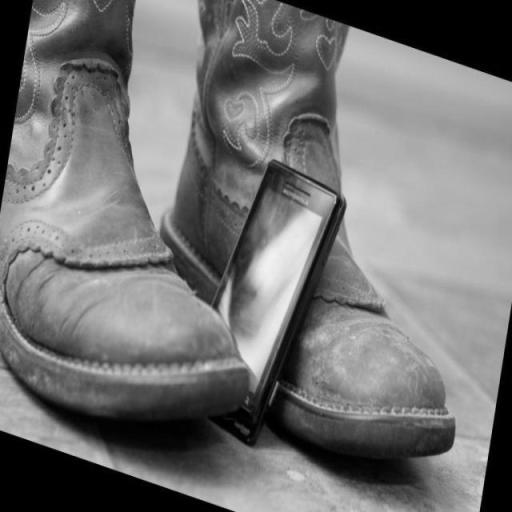phone: (212, 160, 345, 443)
